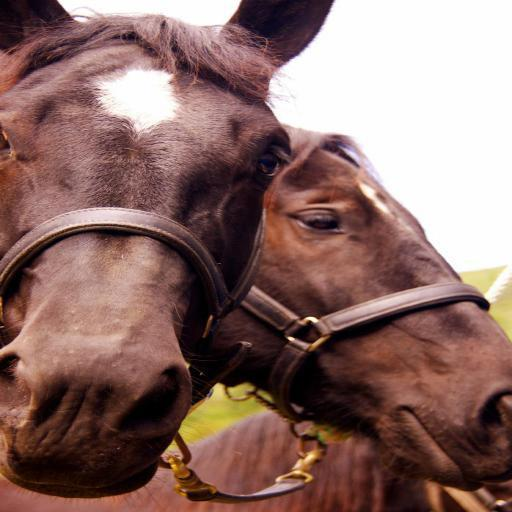horse: (0, 0, 335, 501), (196, 124, 512, 480), (0, 402, 512, 512)
